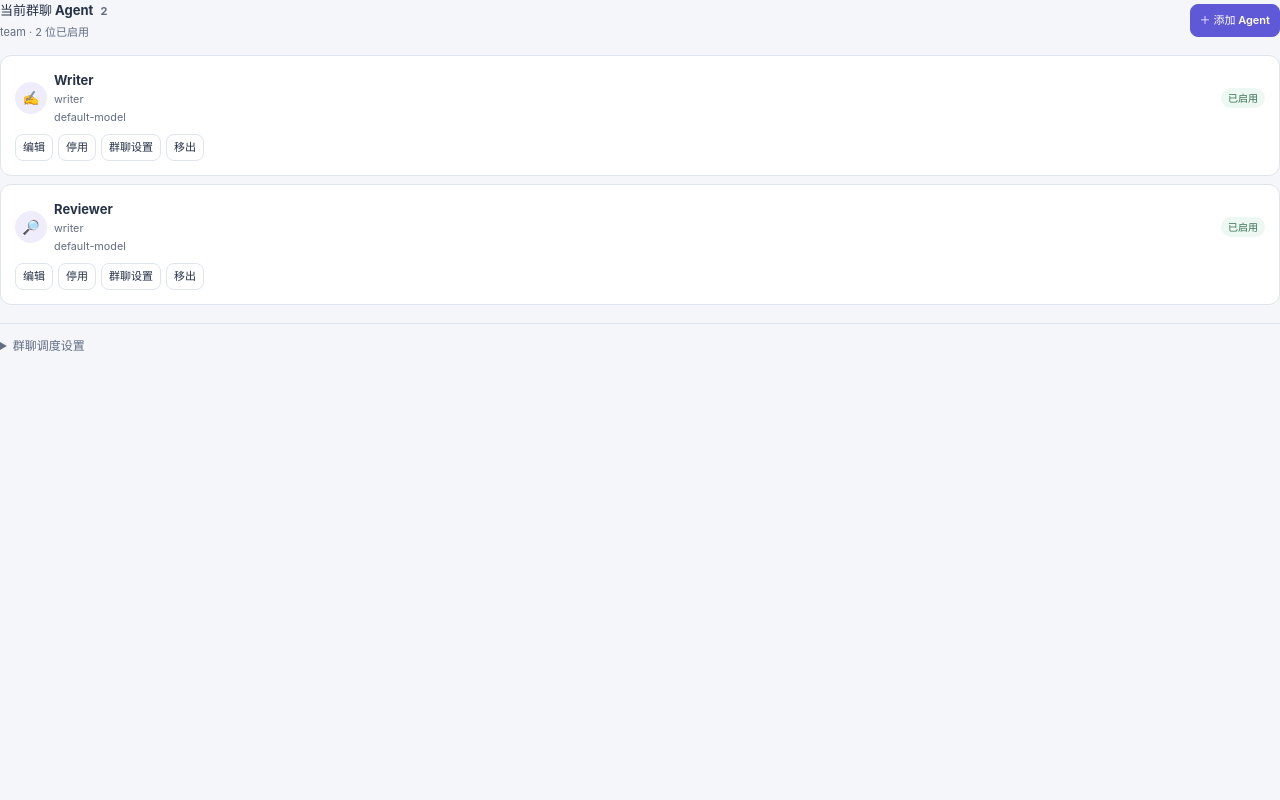
renders multiple enabled members and changes one membership without overwriting the other
Expected: the button with aria-label "停用群聊 Agent：Reviewer" is shown, [58,263,96,290]
Click the button with aria-label "停用群聊 Agent：Writer": (77, 148) [58,134,96,161]
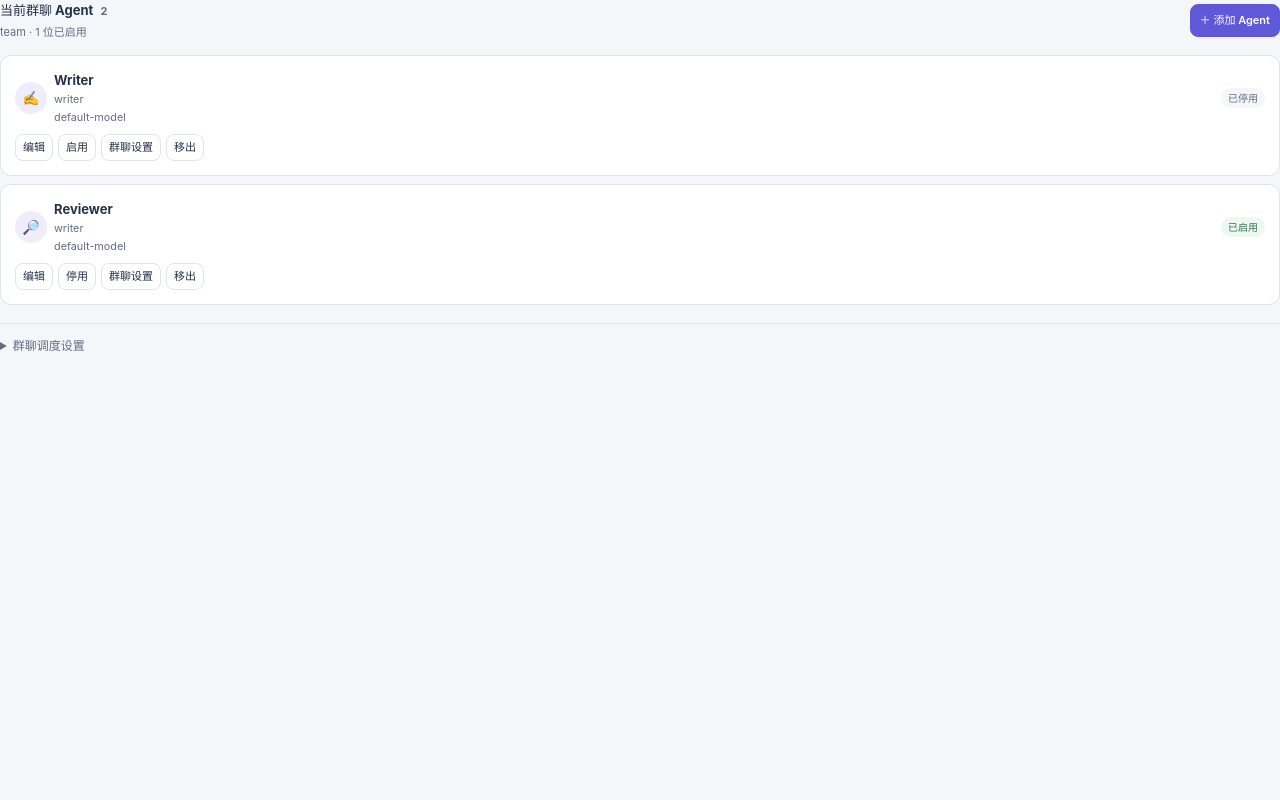
Expected: the button with aria-label "停用群聊 Agent：Reviewer" is shown, [58,263,96,290]
Result: the button with aria-label "启用群聊 Agent：Writer" is shown at [58,134,96,161]
Click the button with aria-label "移出群聊：Writer": (185, 148) [166,134,204,161]
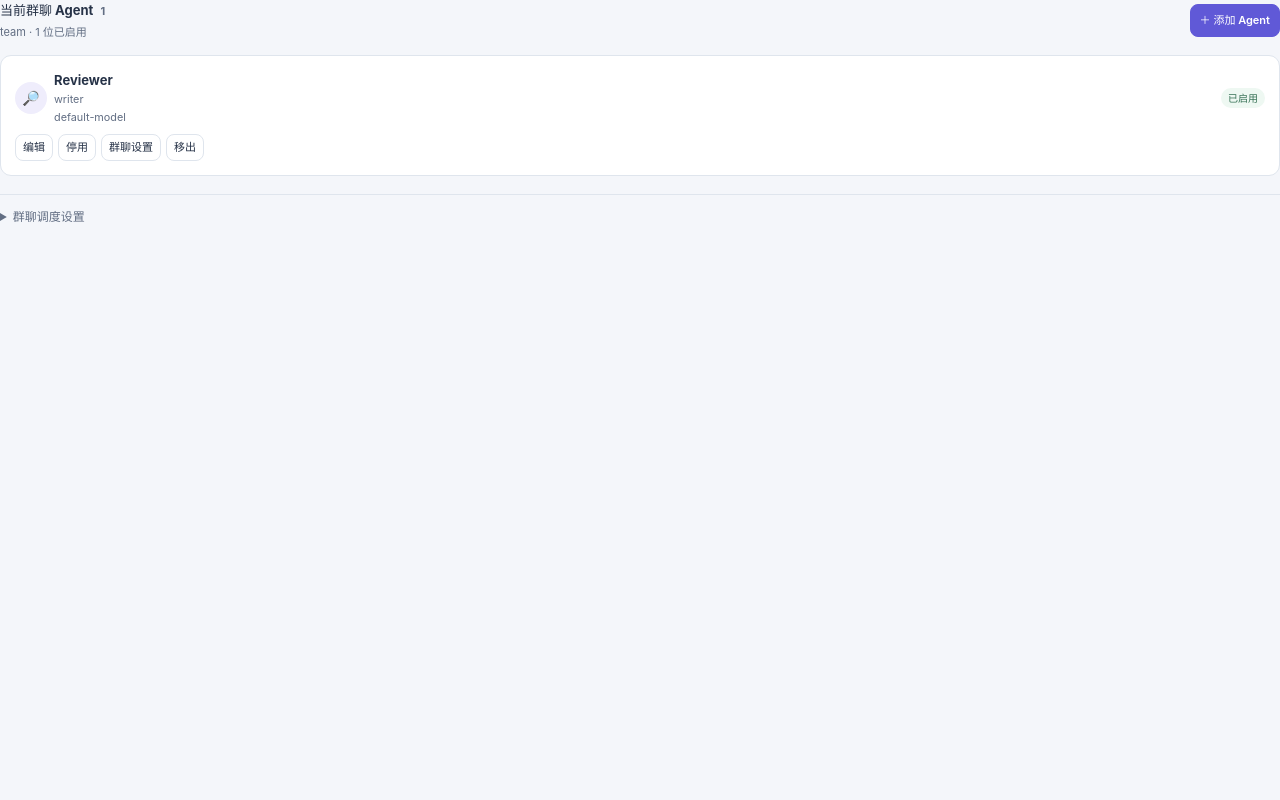
Click the button "＋ 添加 Agent": (1235, 21) [1190,4,1279,38]
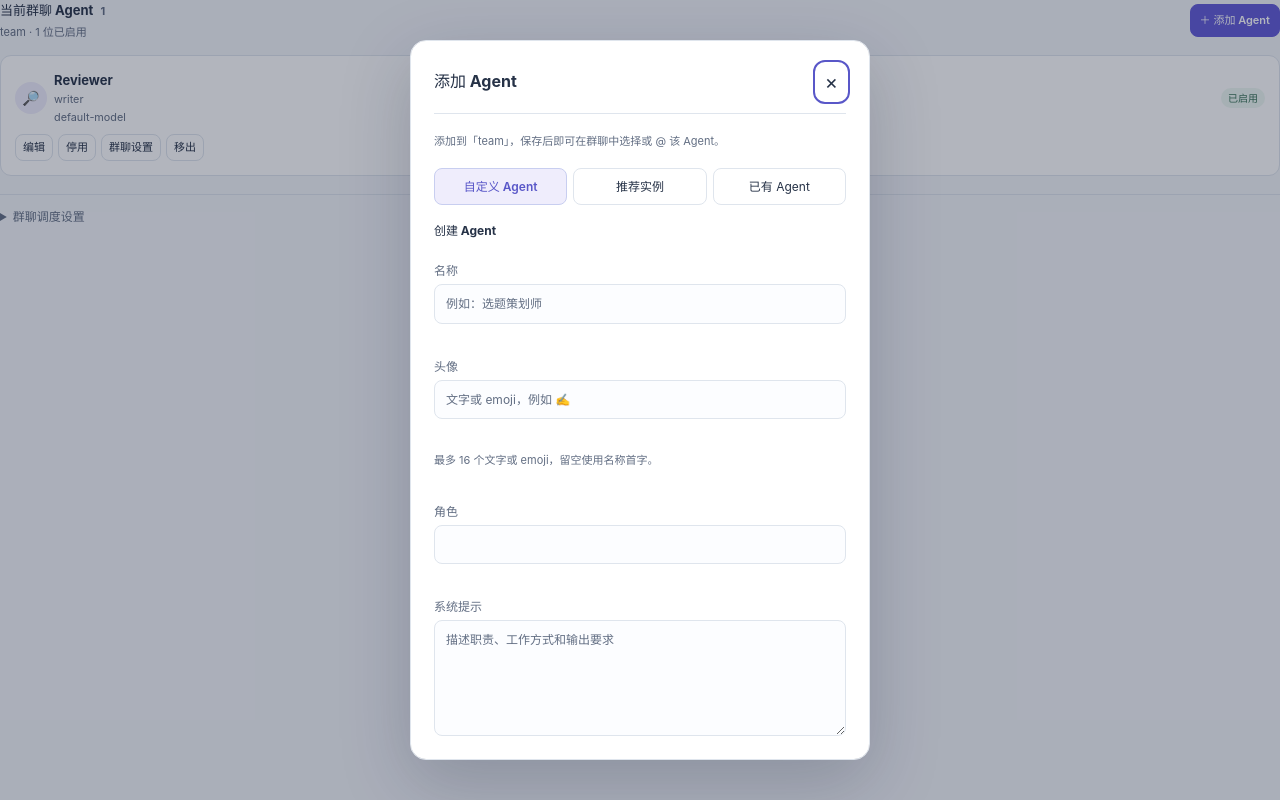
Click the button "已有 Agent": (779, 186) [713,168,846,205]
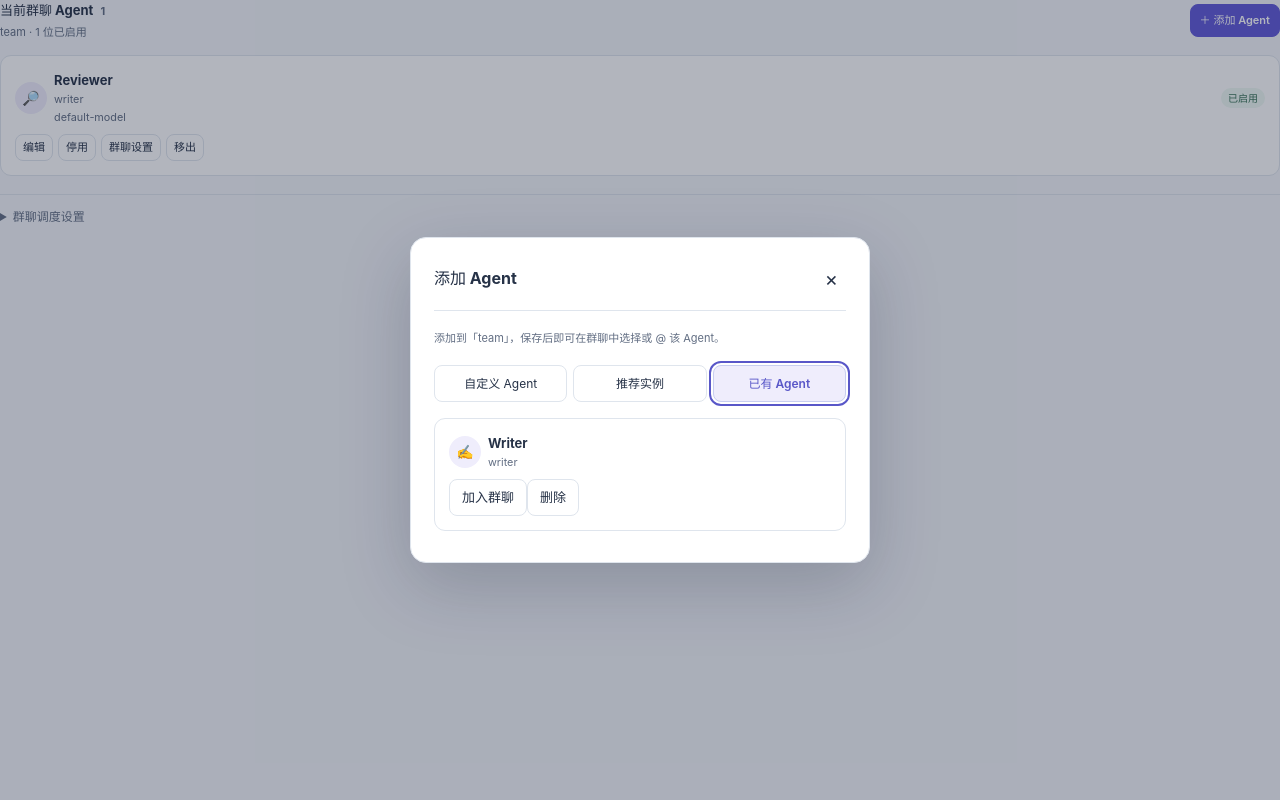
Result: the button with aria-label "加入群聊：Writer" is shown at [449,479,527,516]
